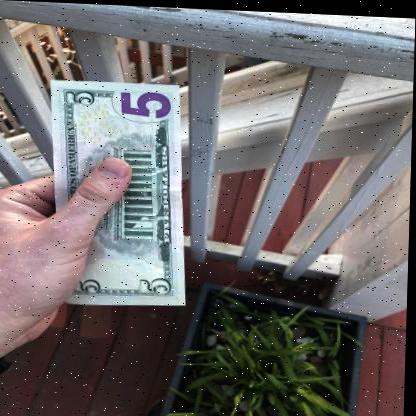five-back: (52, 80, 186, 304)
